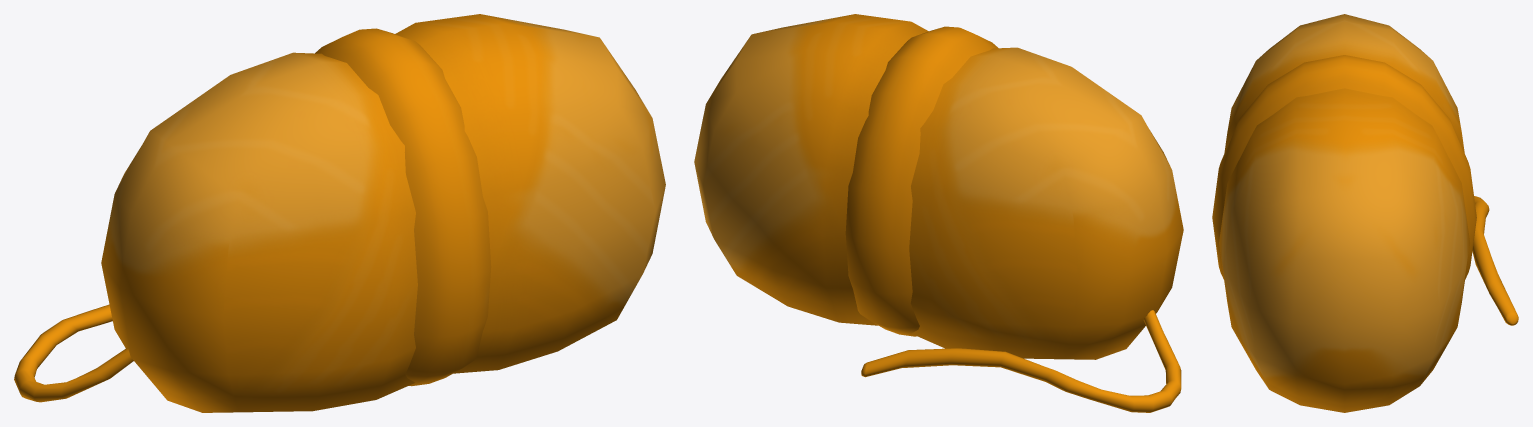
Rendered from YarnWallModel.gltf.
3 renders of one model, left to right at view 1: azimuth 30°, elevation 25°; view 2: azimuth 150°, elevation 25°; view 3: azimuth 270°, elevation 25°, orthographic. The views are drawn at different scales.
Visible parts, largest first — view 1: YarnWallModel; view 2: YarnWallModel; view 3: YarnWallModel.
Part boxes in pixels (left/top/right/bottom): YarnWallModel: left=14, top=14, right=665, bottom=412; YarnWallModel: left=694, top=14, right=1183, bottom=412; YarnWallModel: left=1212, top=14, right=1518, bottom=412.
Size of the model in its own units: 2.19 by 1.2 by 1.18.
1 material, 1 textured.
